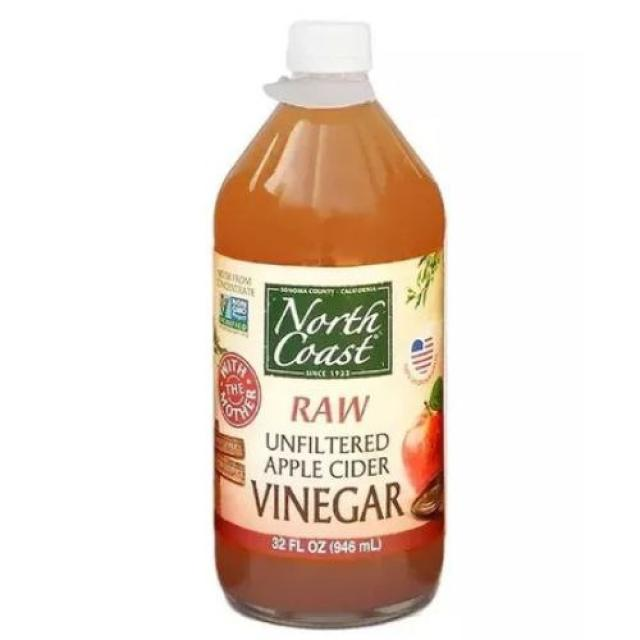food-supliment: (218, 190, 451, 588)
pregnancy: (213, 194, 448, 587)
